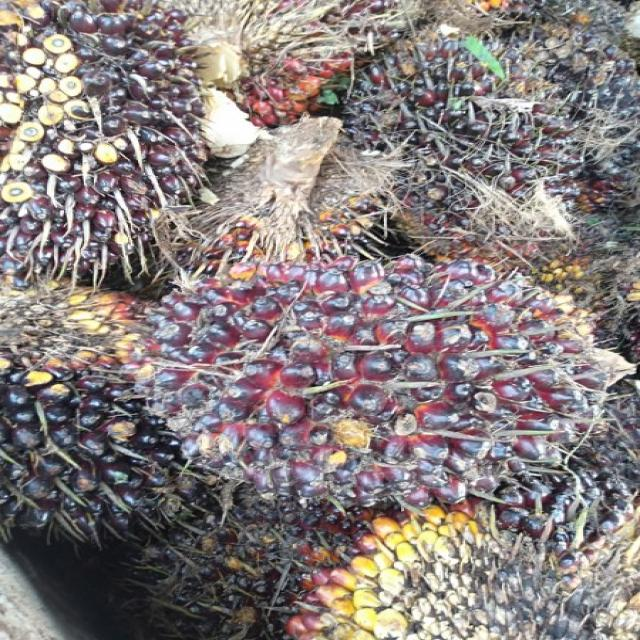fraksi 1: (112, 198, 634, 529)
